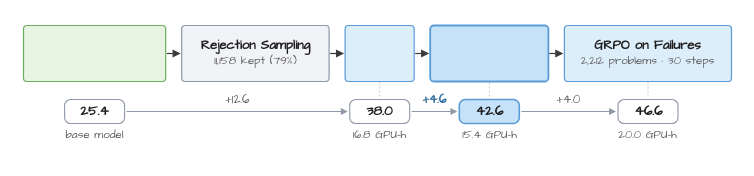
Some shapes in this 754 by 176 pixel diagram are drawn without their labels. The centre of each missing label's shape, as x and y in pixels:
"Scaffold-OPD 40 steps" belongs at (489,53).
"SFT 1 epoch" belongs at (379,53).
"Teacher Solutions 14,116 problems" belongs at (94,53).
